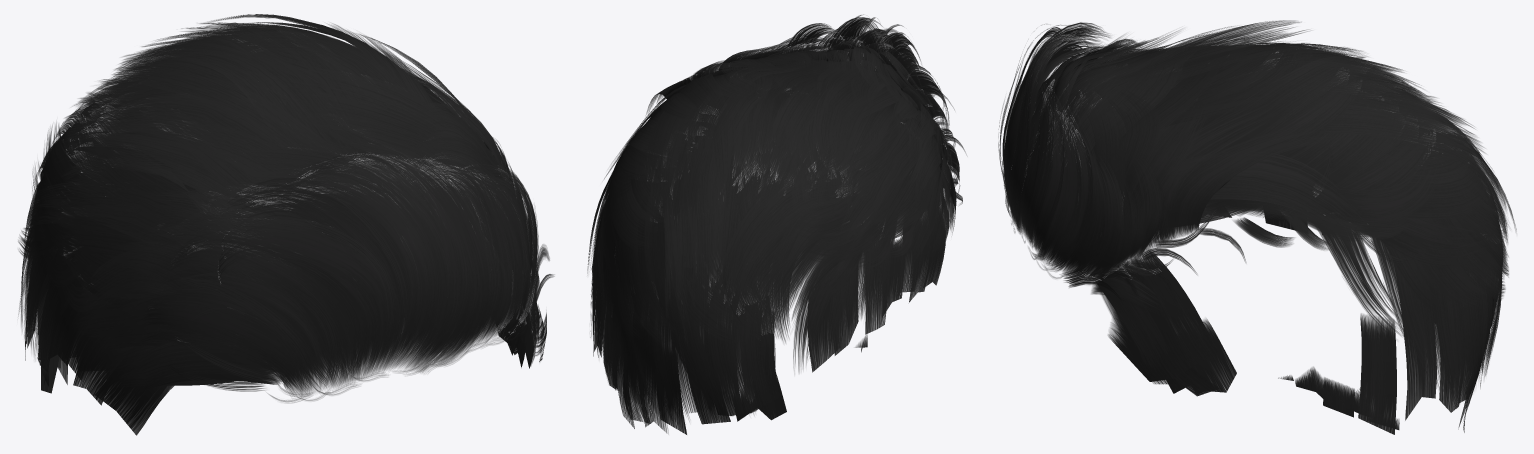
The model's file is Oval_Straight_02.glb.
3 views of the same model, side by side, from view 1: azimuth 30°, elevation 25°; view 2: azimuth 150°, elevation 25°; view 3: azimuth 270°, elevation 25° (orthographic). The views are drawn at different scales.
Parts seen in each view (by area): view 1: oval straight 02 taper fade; view 2: oval straight 02 taper fade; view 3: oval straight 02 taper fade.
Part boxes in pixels (x1,y1,x2,y2): oval straight 02 taper fade: (18,14,554,435); oval straight 02 taper fade: (587,14,966,434); oval straight 02 taper fade: (998,20,1516,434).
Bounding box in the file's own units: 0.1978 × 0.1926 × 0.2487.
Materials: 1 (1 with a texture image).
